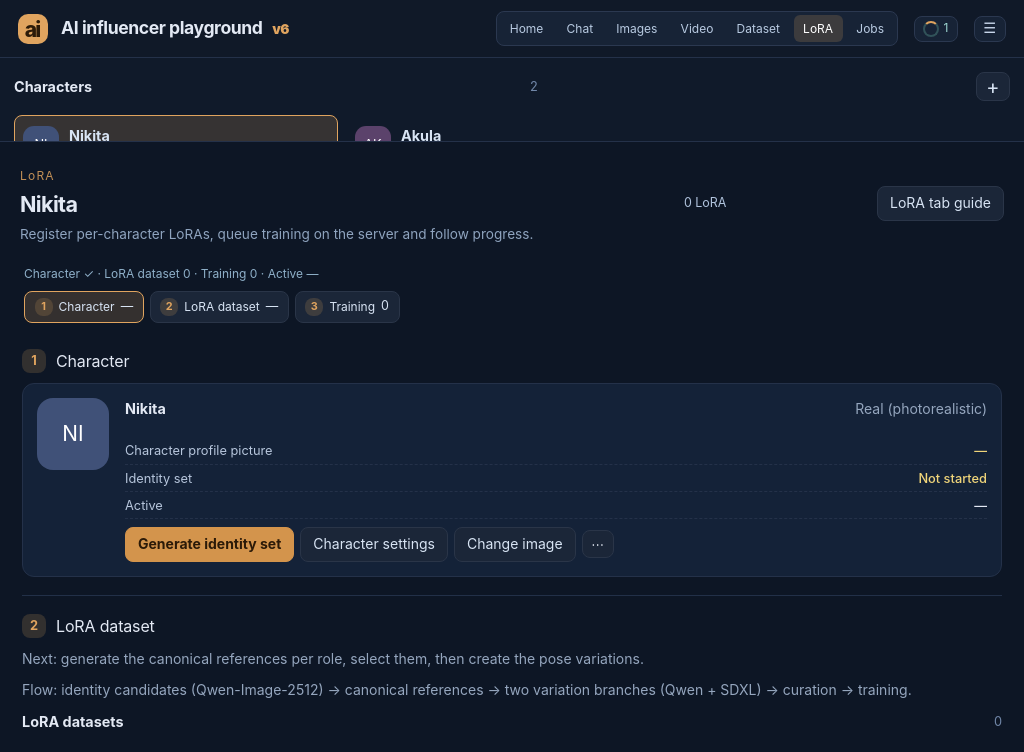
global job tray › opens a popover with active job progress and a link to Jobs
Click the button named "jobs running" at (936, 28), box [914,16,958,42]
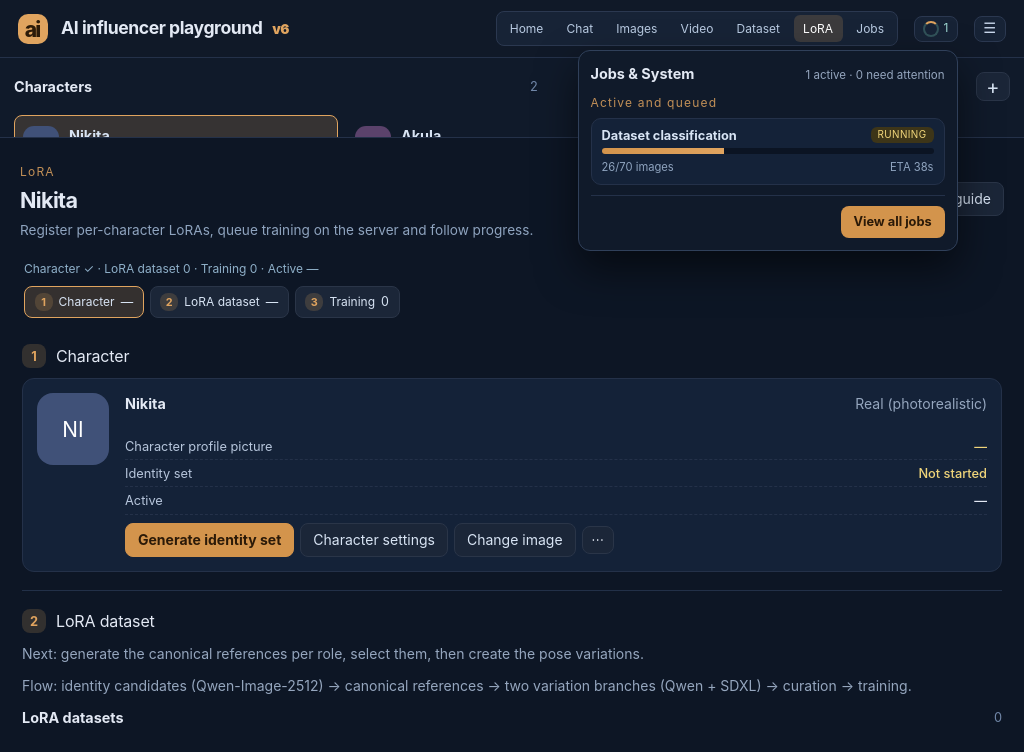
Expected: the text "Dataset classification" is shown, [602,128,737,143]
Expected: the text "26/70 images" is shown, [602,159,674,176]
Expected: the text "ETA 38s" is shown, [890,159,934,176]
